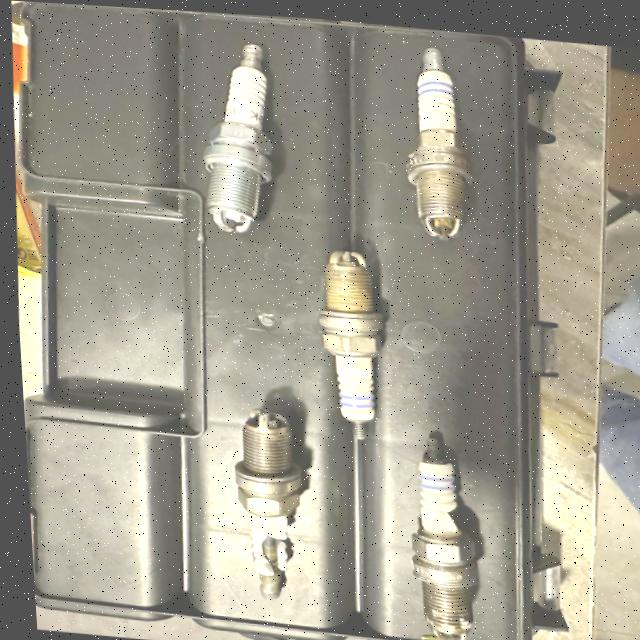damaged_spark-plug: (206, 394, 319, 594), (392, 420, 479, 636)
spark-plug: (167, 28, 286, 244), (382, 31, 472, 227), (297, 238, 384, 416)
